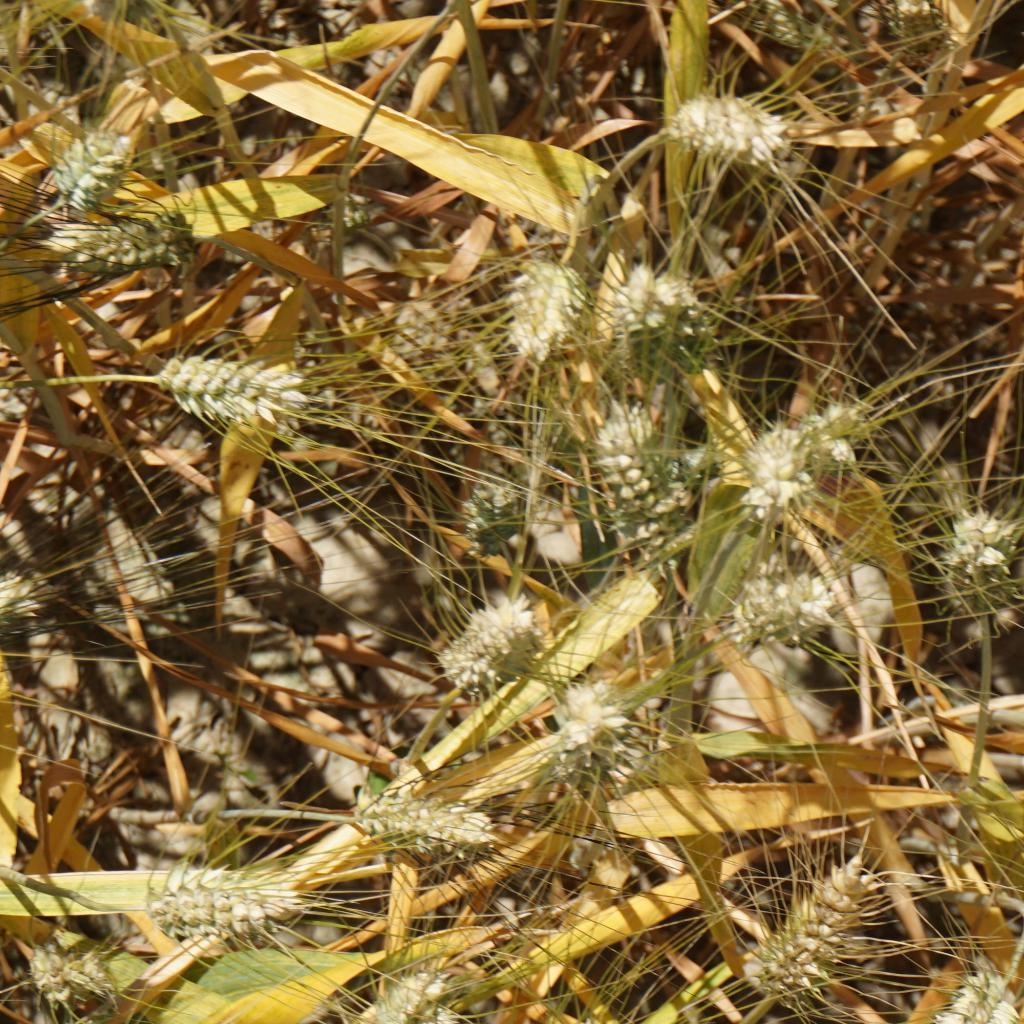0-0: (156, 333, 326, 439), (588, 398, 695, 561), (760, 859, 867, 1001), (603, 266, 740, 373), (662, 82, 809, 179), (424, 590, 549, 688), (48, 197, 197, 279), (550, 686, 653, 799), (507, 238, 588, 370), (349, 795, 508, 862), (48, 117, 157, 214), (937, 510, 1024, 630), (135, 870, 286, 939), (722, 0, 853, 68), (722, 570, 825, 652), (795, 400, 891, 487), (293, 166, 379, 249), (916, 959, 1024, 1024), (16, 945, 120, 1006), (462, 466, 532, 550), (376, 956, 462, 1024), (884, 0, 959, 73), (742, 429, 798, 524), (0, 572, 38, 660)
